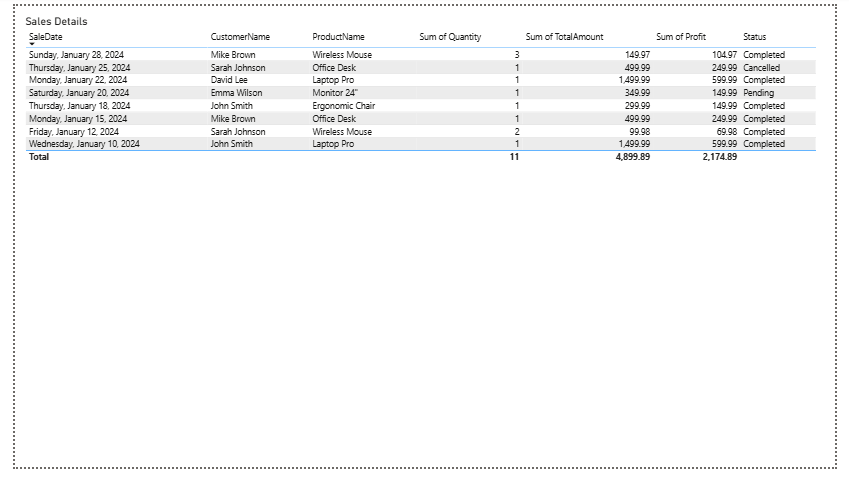

Layout of this report page (visuals, bound fields, positions):
{"tool":"powerbi","page":{"name":"Sales Details","canvas":[1280,720],"ordinal":2},"visuals":[{"type":"tableEx","title":"Sales Details","fields":{"Values":["SalesSummary.SaleDate","SalesSummary.CustomerName","SalesSummary.ProductName","SalesSummary.Quantity","SalesSummary.TotalAmount","SalesSummary.Profit","SalesSummary.Status"]},"box":[10.5,13.4,1257.8,694.6],"z":0}]}

Visuals, with their boxes in screenshot pixels (x1, y1, x2, y2), scaled from the page's 1280x720 canvas onto the 849x478 screenshot:
"Sales Details" tableEx: (x1=7, y1=9, x2=841, y2=470)
